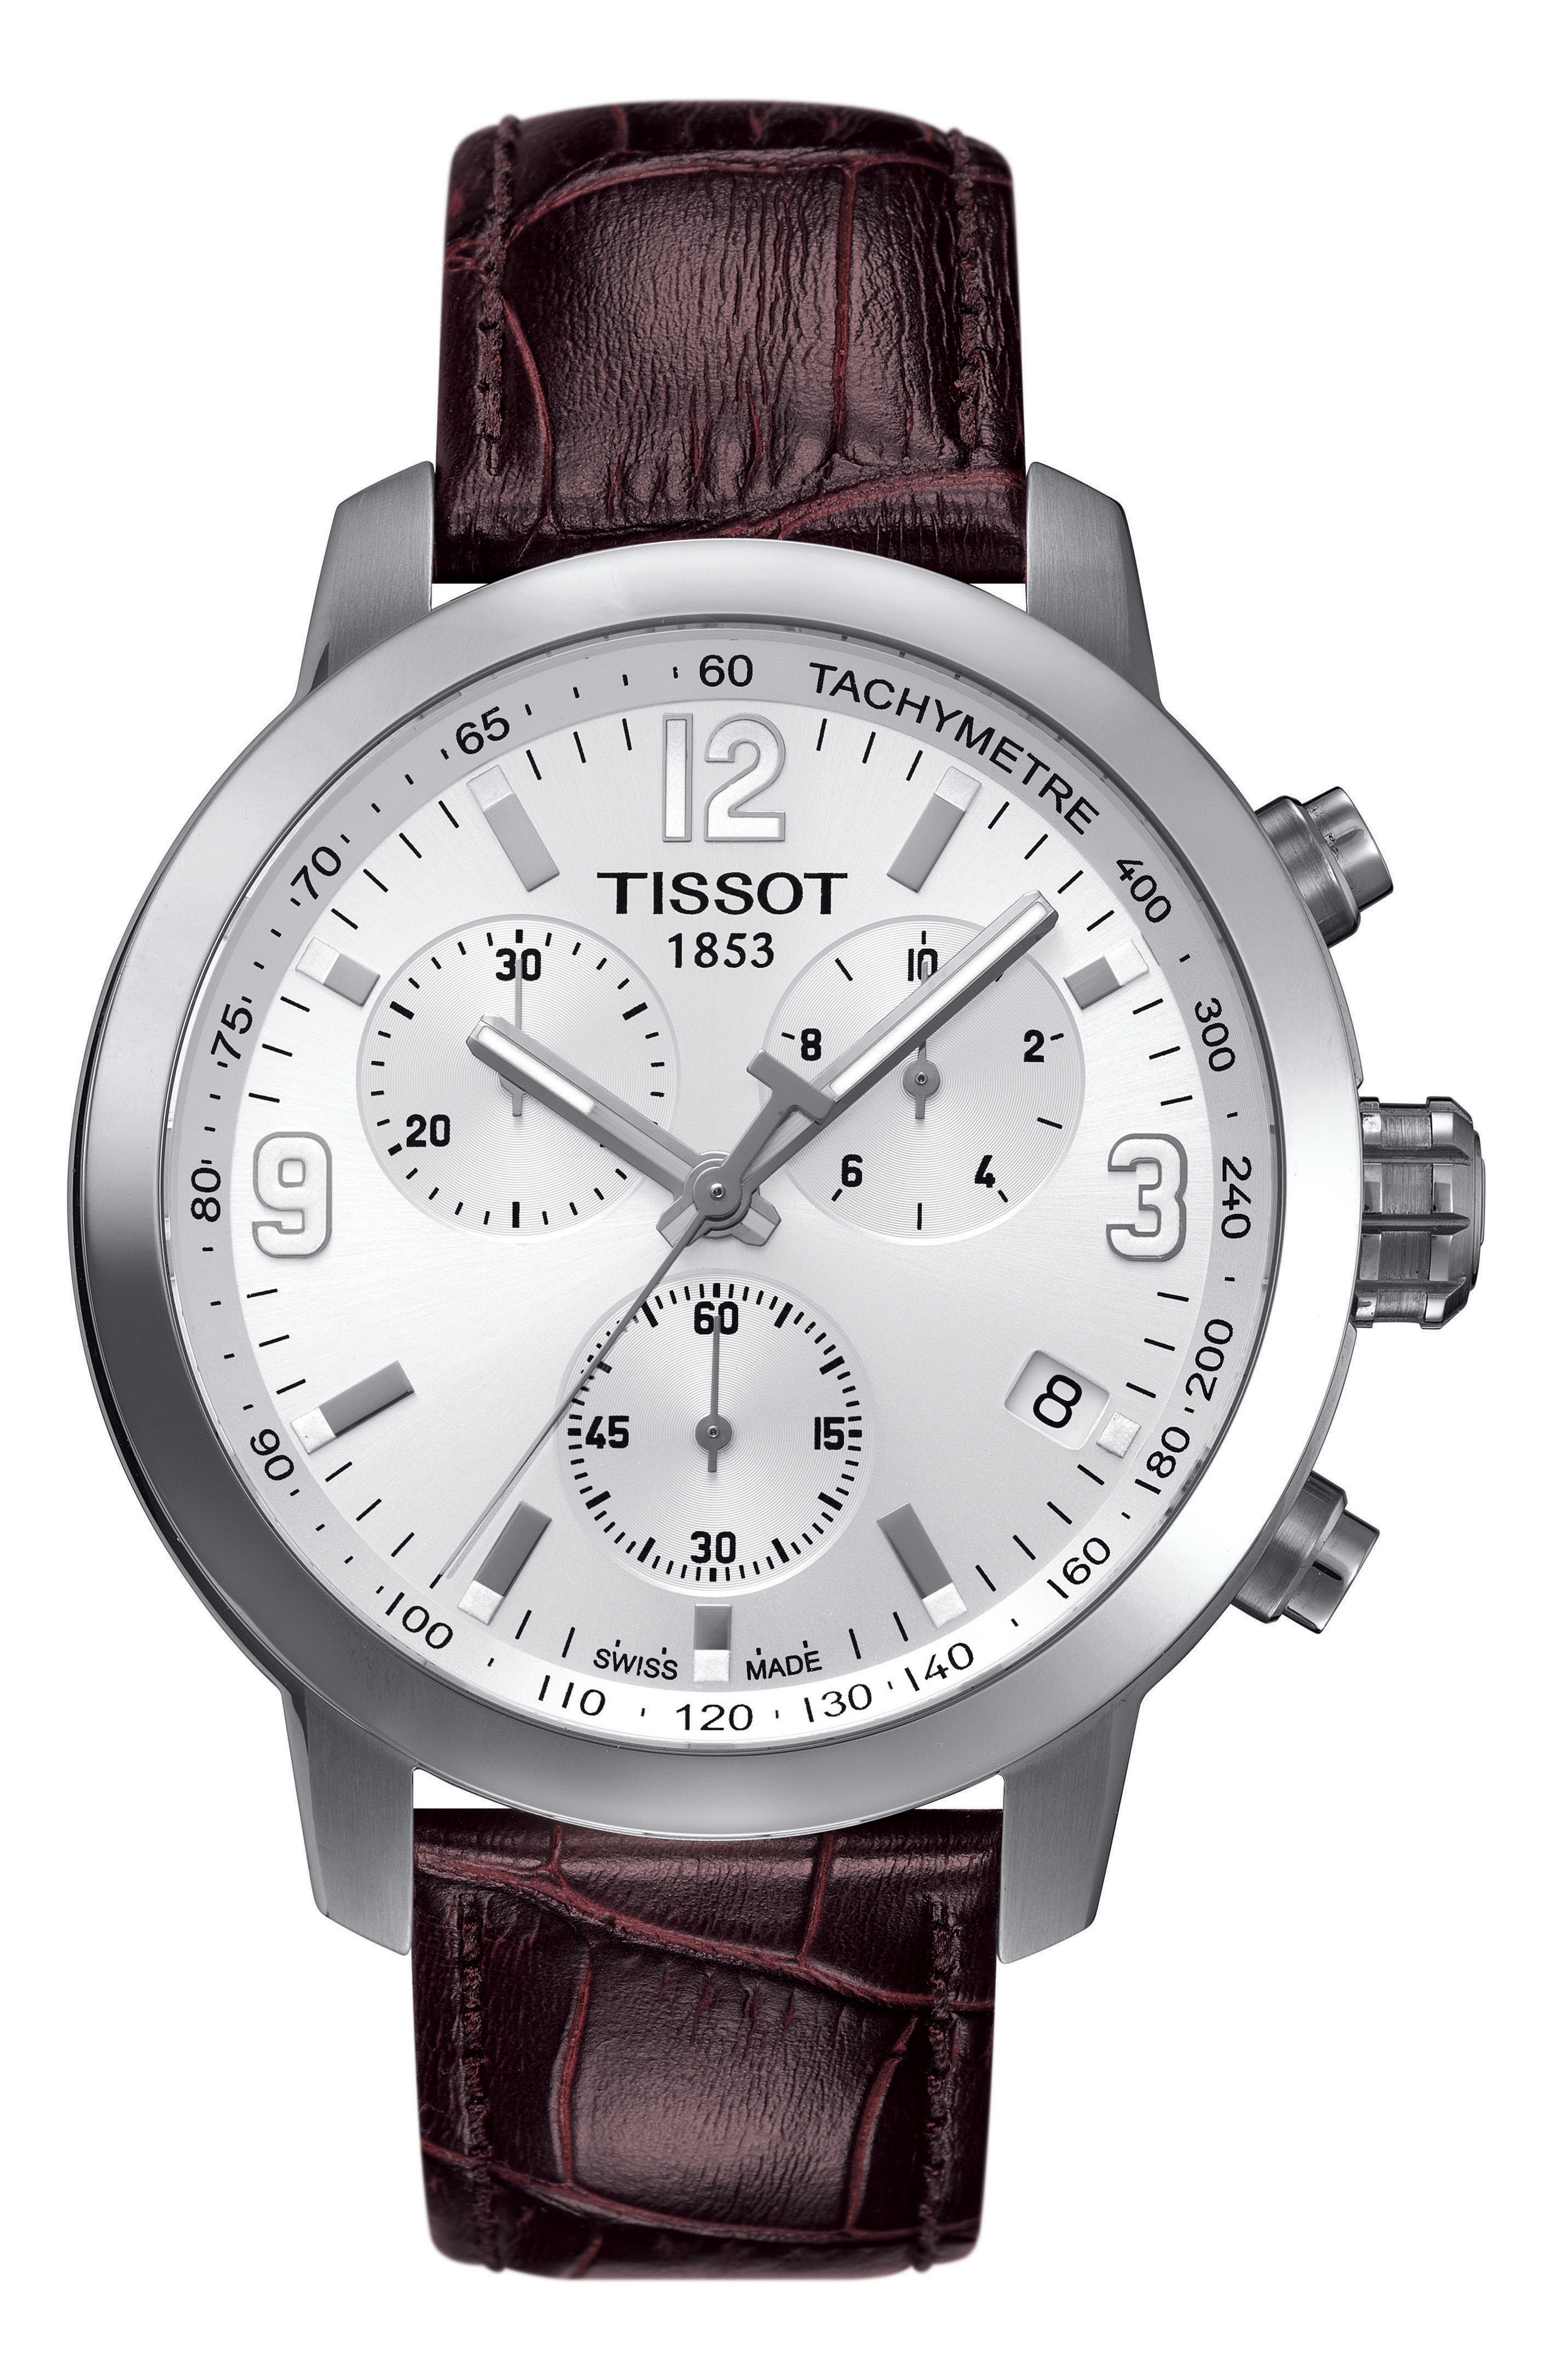clock: (69, 538, 1382, 1849)
